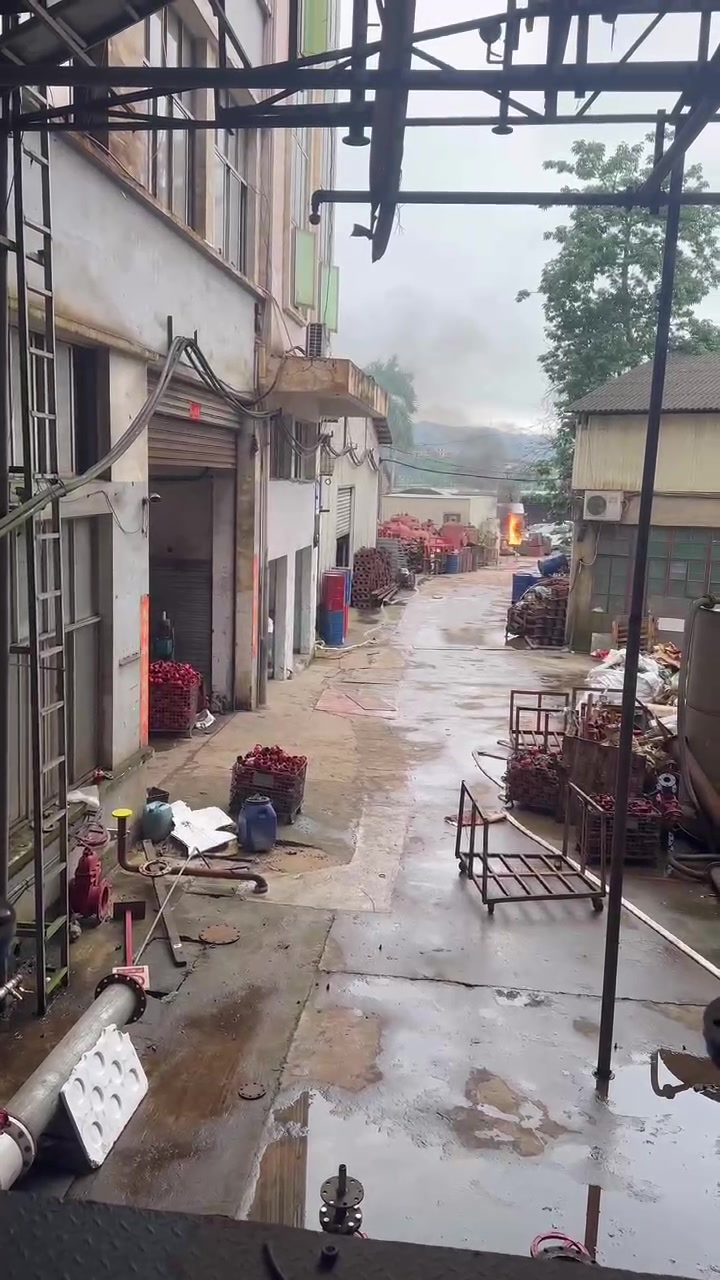fire: (508, 513, 520, 542)
